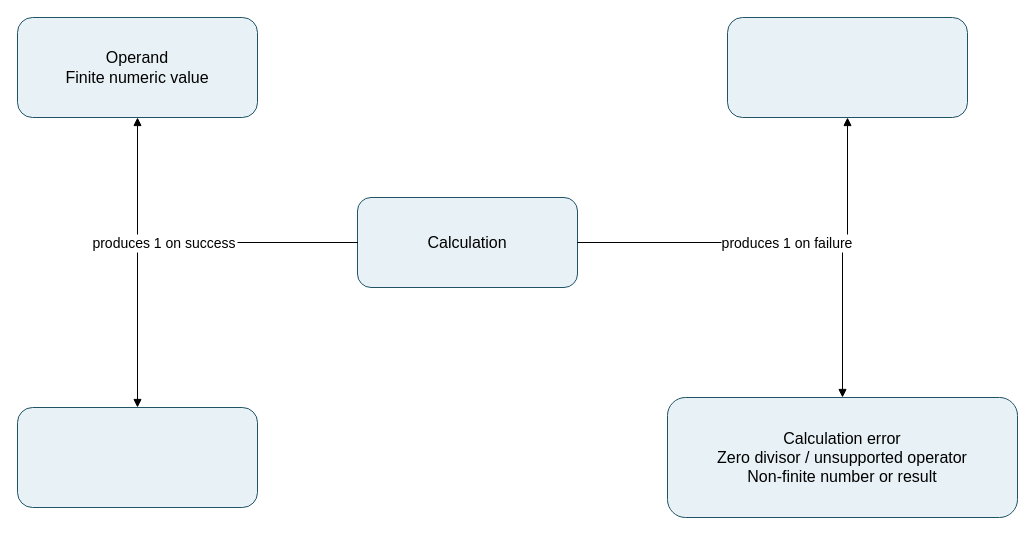
Image size: 1035x535. Some labels were removed from this diagram. Each missing label, with the box of its shape:
Operator + - * /: (726, 16, 968, 118)
Result Finite numeric value: (16, 406, 258, 508)
